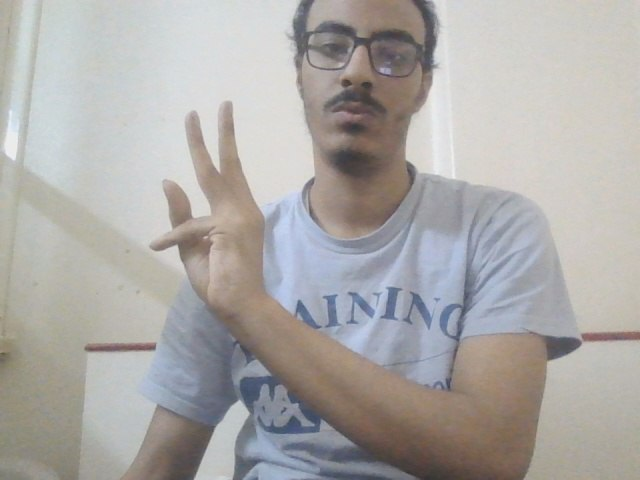Water: (127, 96, 307, 323)
